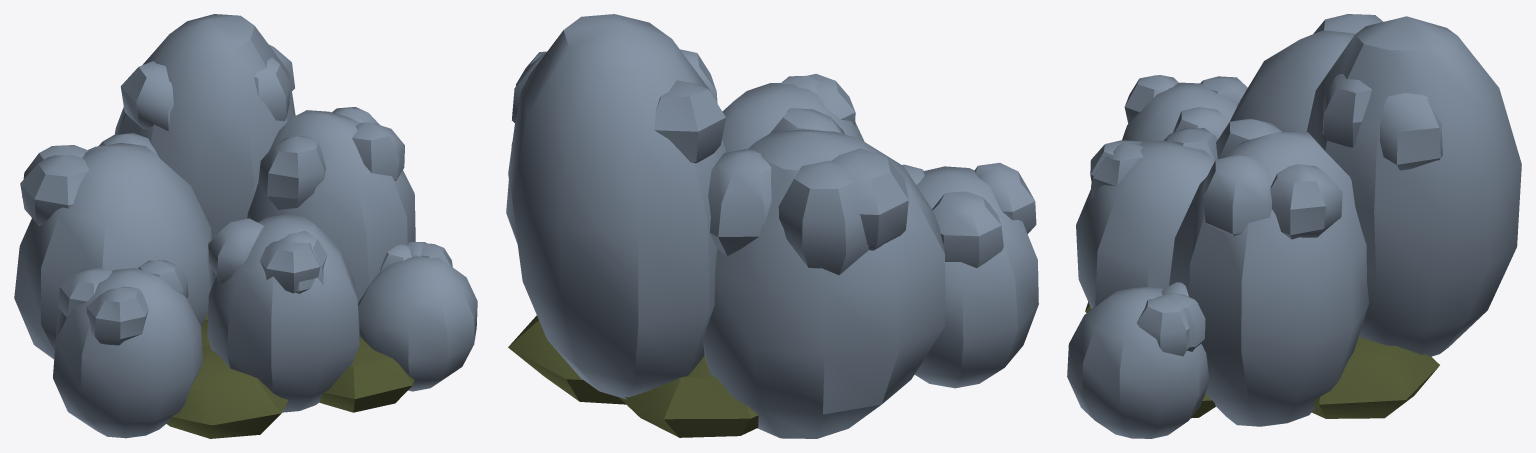
The model's file is iron-stromatolite.glb.
3 views of the same model, side by side, from view 1: azimuth 30°, elevation 25°; view 2: azimuth 150°, elevation 25°; view 3: azimuth 270°, elevation 25° (orthographic). The views are drawn at different scales.
Parts seen in each view (by area): view 1: body; view 2: body; view 3: body.
Part boxes in pixels (x1,y1,x2,y2): body: (14, 14, 477, 438); body: (506, 14, 1038, 438); body: (1067, 14, 1521, 438).
Size of the model in its own units: 1.59 by 1.25 by 1.37.
